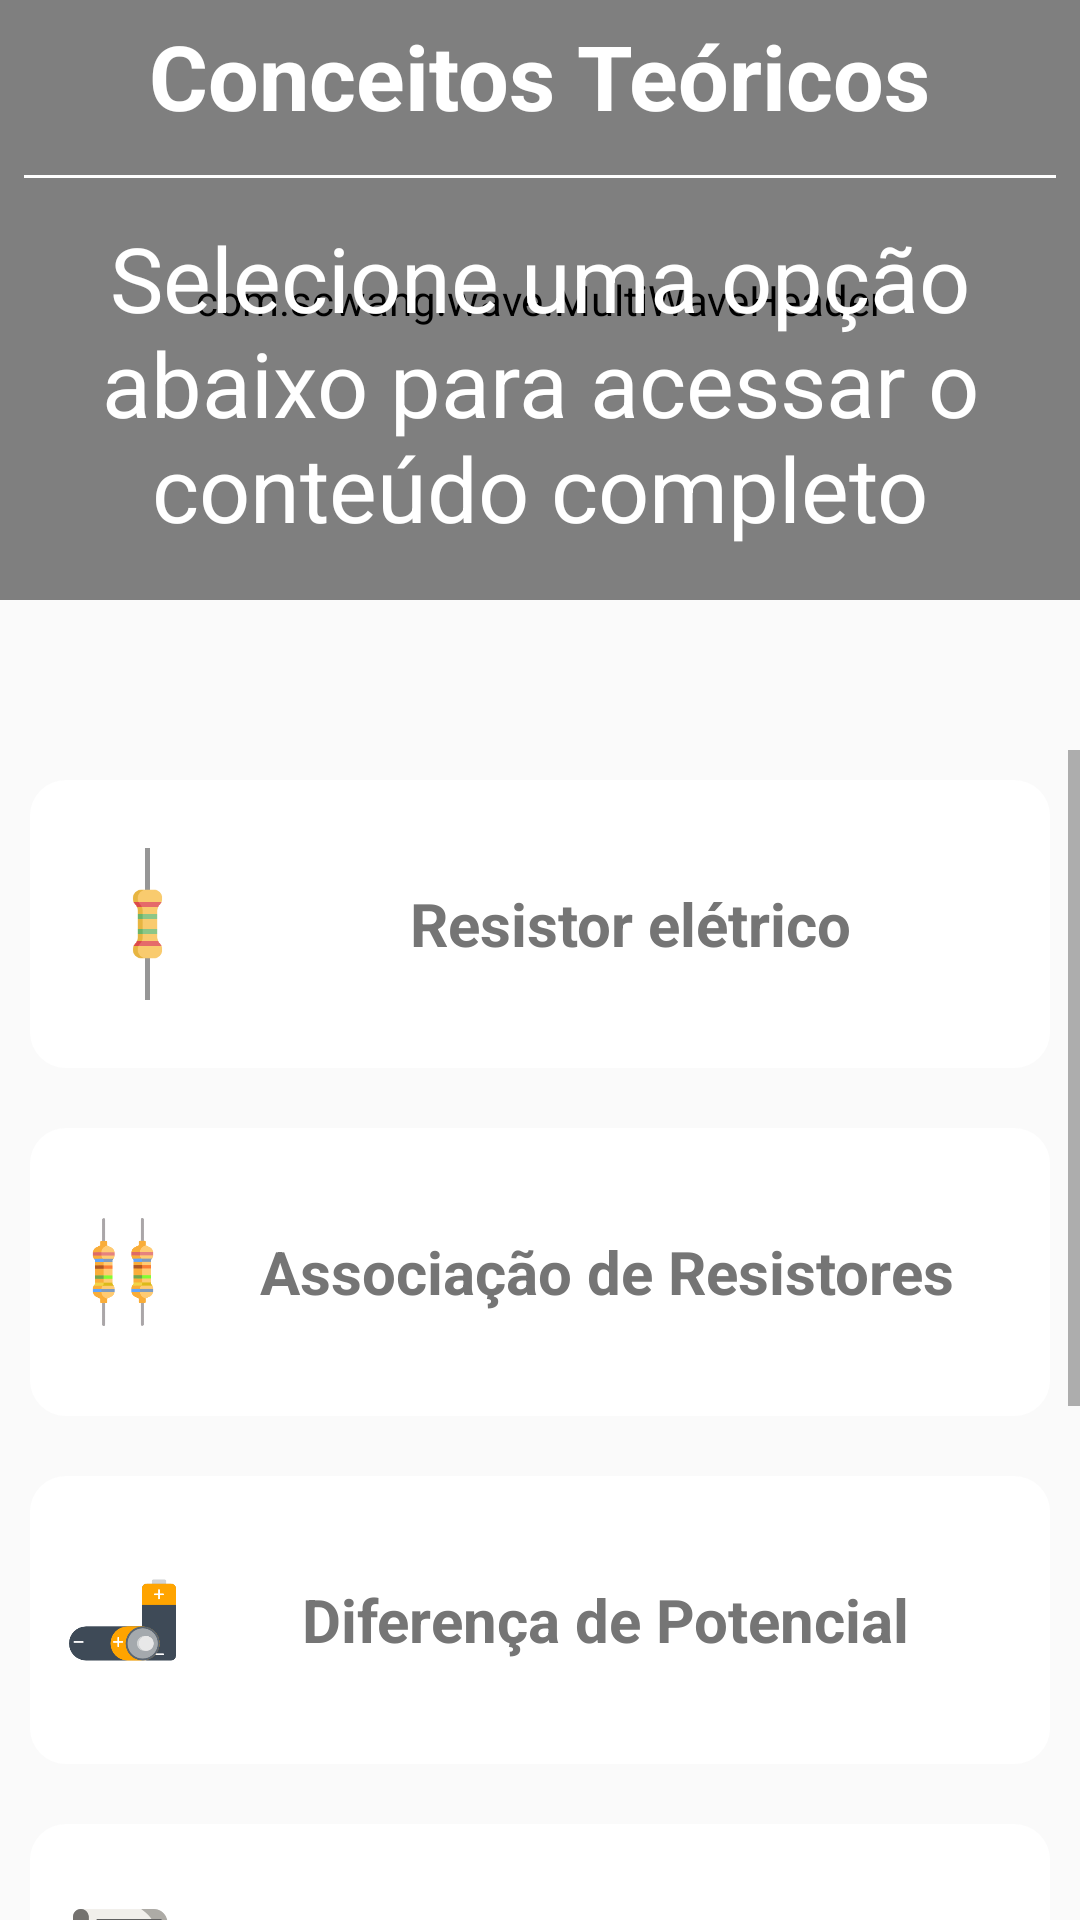

Icons on this 1080px×1920px Android screen, each with its box as (x1, y1, x2, y2):
associacao: (93, 1218, 153, 1326)
resistor pequeno: (133, 848, 162, 1000)
